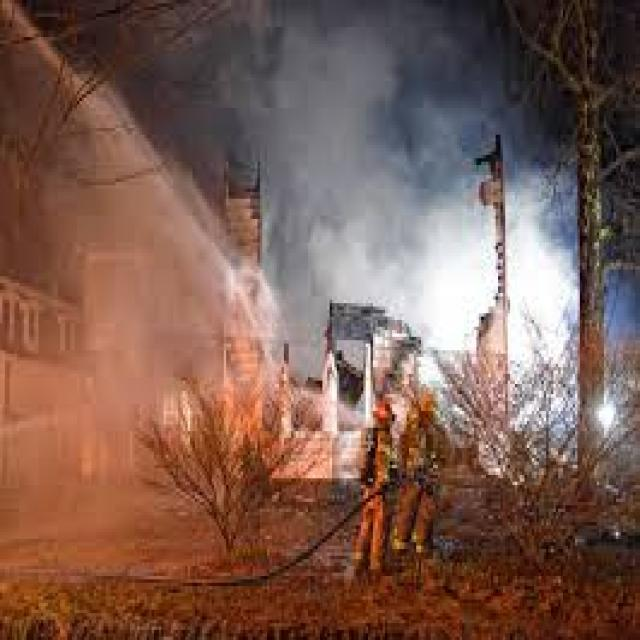smoke: (293, 133, 598, 450)
